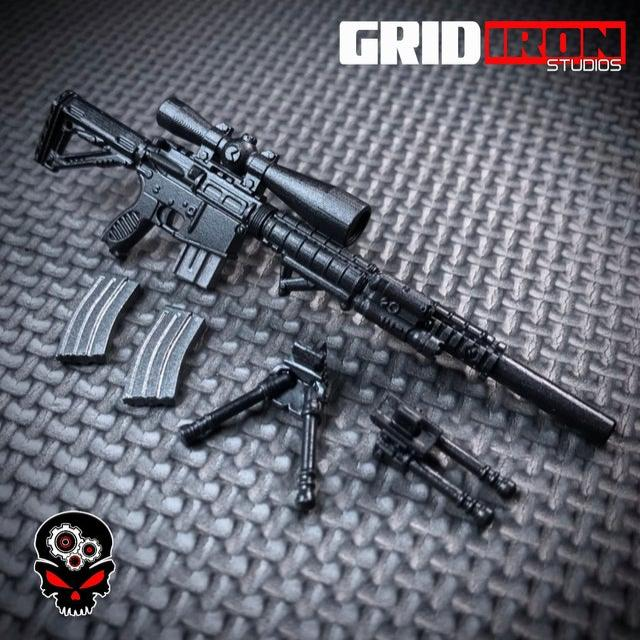Rifle: (37, 91, 621, 431)
